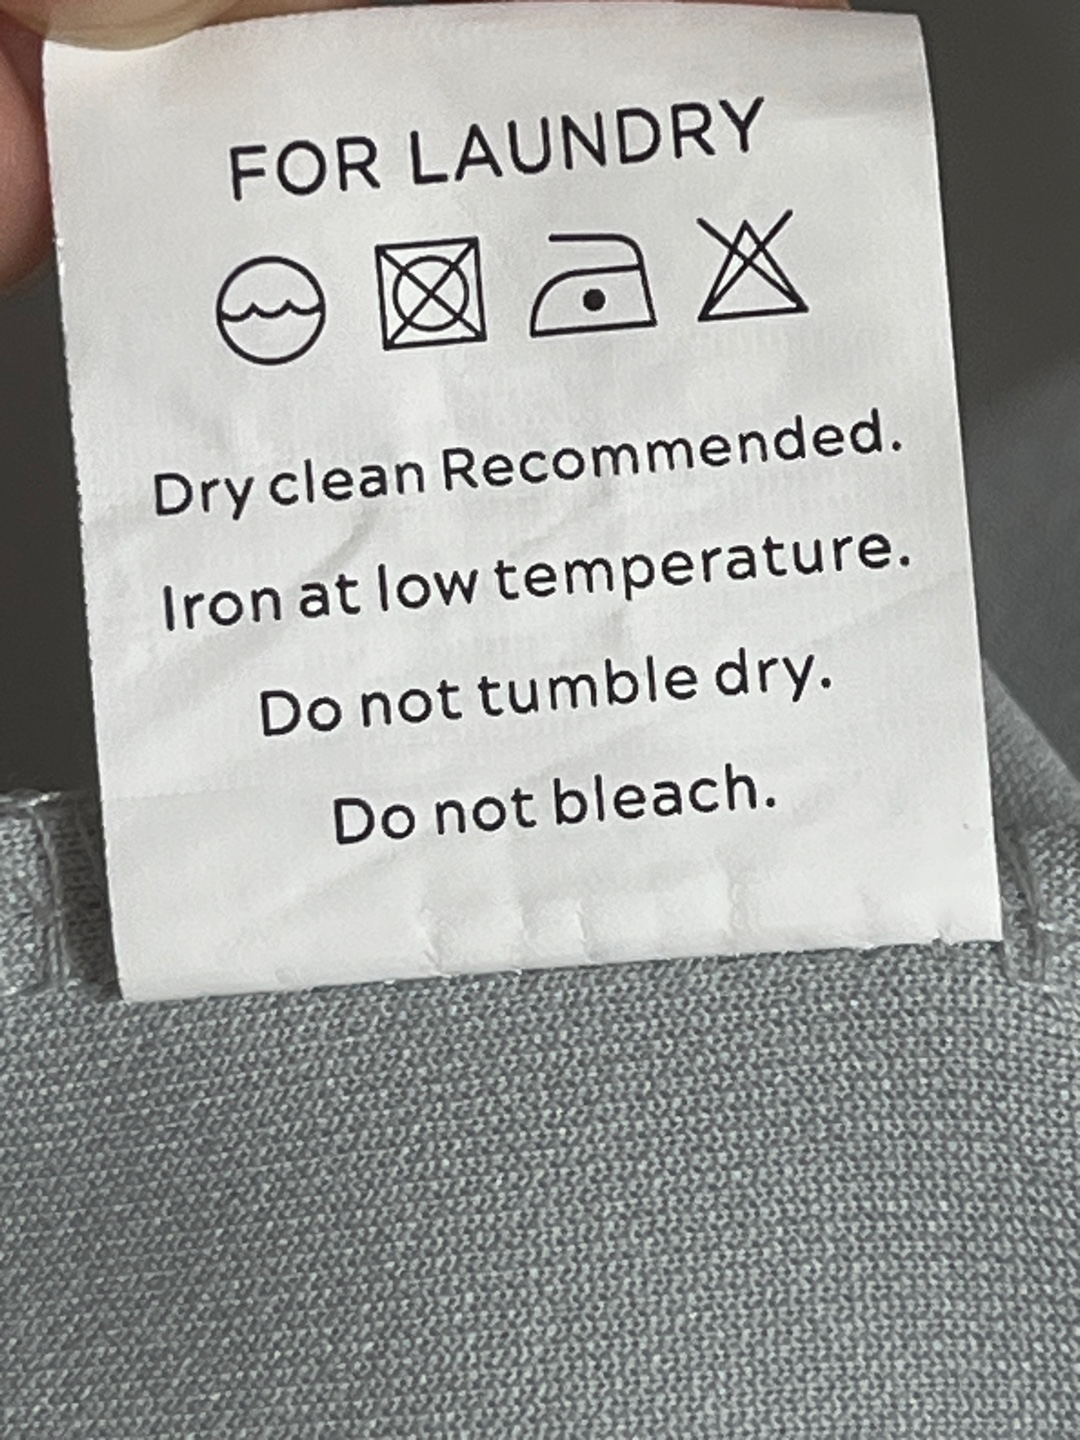DN_bleach: (683, 200, 814, 333)
DN_tumble_dry: (364, 225, 497, 359)
dry_clean: (201, 242, 339, 377)
iron_low: (518, 219, 665, 349)
